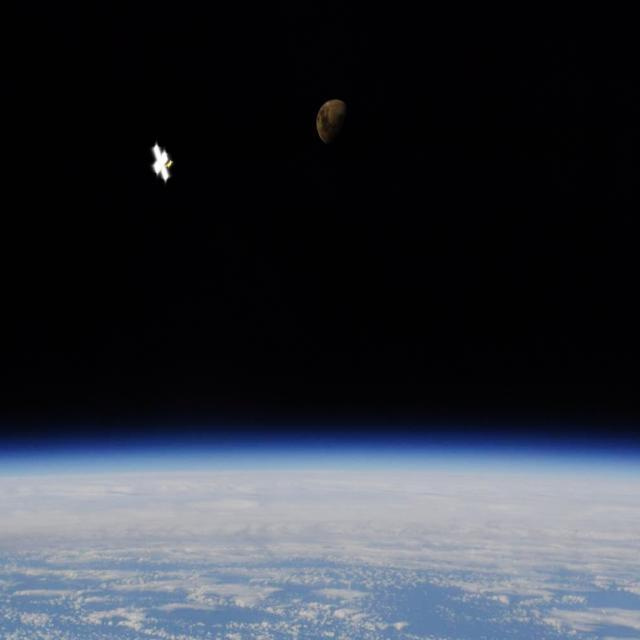satellite: (133, 136, 192, 196)
